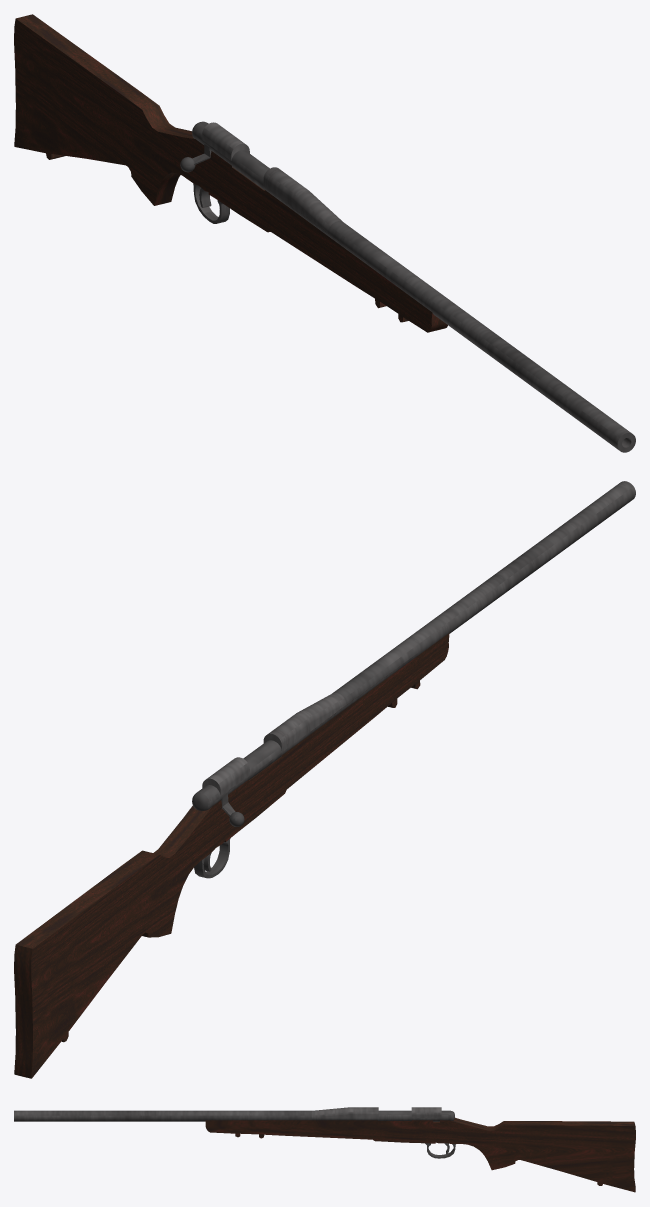
File: hunting_rifle.obj
3 views of the same model, one above another, from view 1: azimuth 30°, elevation 25°; view 2: azimuth 150°, elevation 25°; view 3: azimuth 270°, elevation 25° (orthographic). The views are drawn at different scales.
Visible parts, largest first — view 1: Hunting_Rifle_Untitled; view 2: Hunting_Rifle_Untitled; view 3: Hunting_Rifle_Untitled.
Part boxes in pixels (<box>): Hunting_Rifle_Untitled: <box>14,14,635,452</box>; Hunting_Rifle_Untitled: <box>14,481,635,1078</box>; Hunting_Rifle_Untitled: <box>14,1107,635,1192</box>.
Size of the model in its own units: 0.3052 by 1.16 by 7.91.
